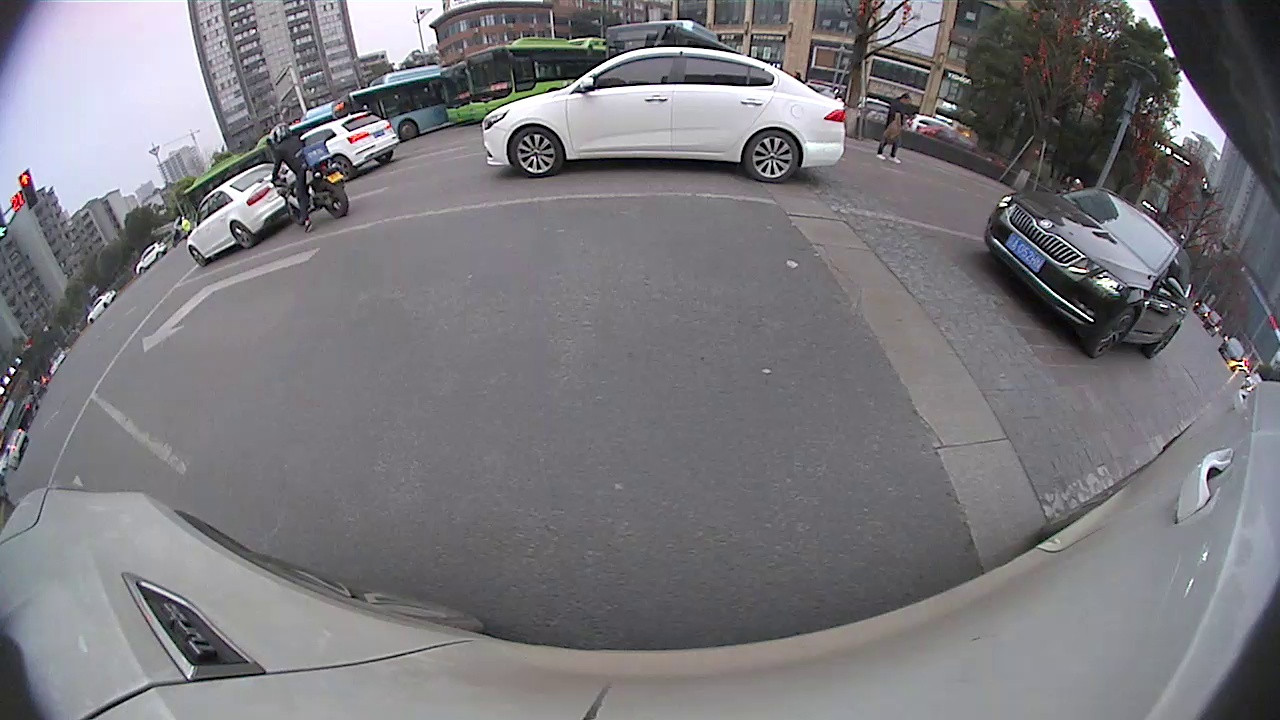bus: (463, 36, 607, 124), (330, 63, 450, 151)
car: (481, 44, 849, 182), (983, 185, 1194, 360), (186, 160, 293, 268), (298, 108, 399, 179)
front: (509, 123, 566, 183), (1088, 304, 1139, 363)
person: (889, 91, 909, 164)
rear: (742, 128, 802, 185)
rider: (269, 122, 351, 232)
